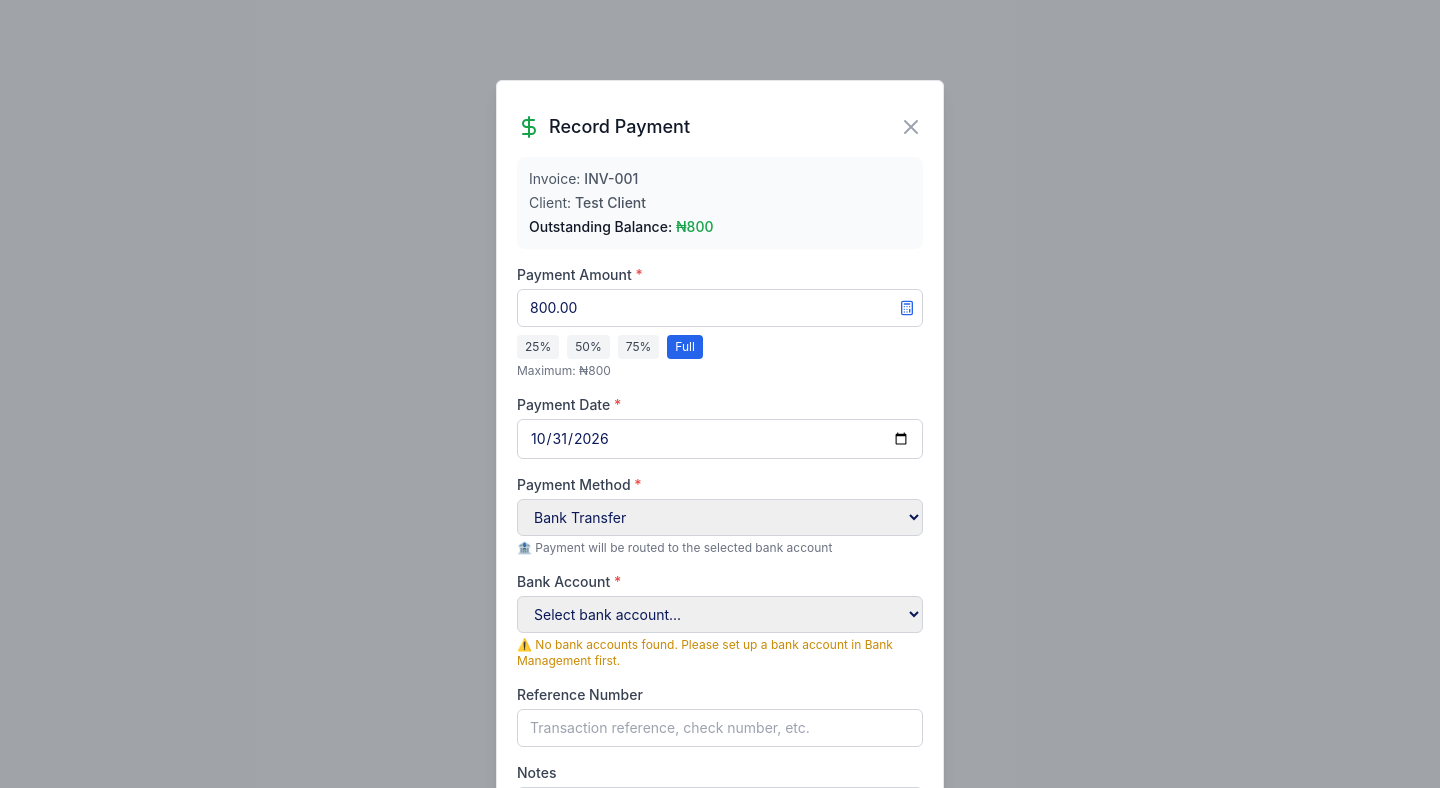
Test: PaymentRecordingModal › provides full balance button
# Clear amount first
Clear the field showing "800.00". click: (720, 308)
box: [517, 289, 923, 327]
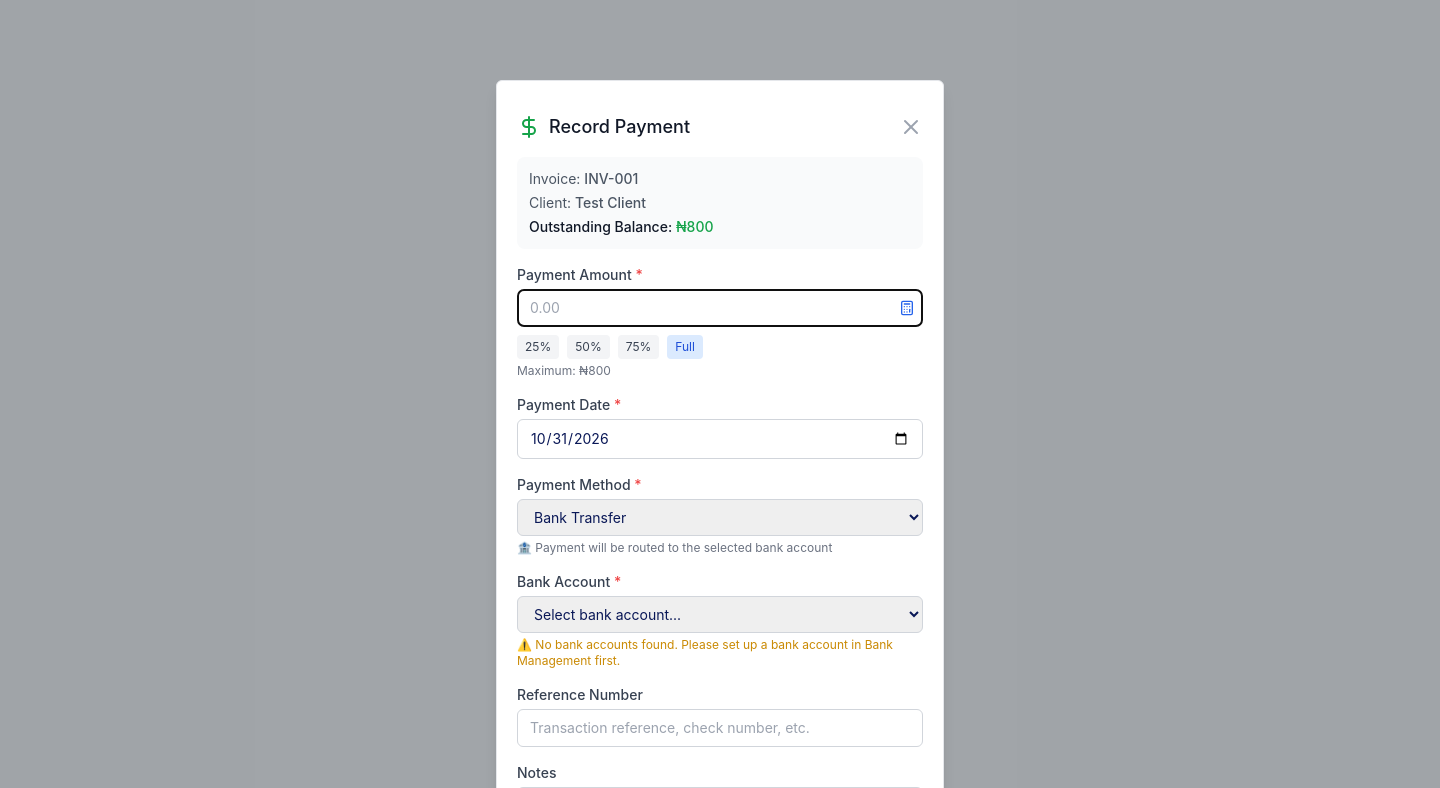
# Click Full button
Click the button "Full". click: (685, 347)
box: [667, 335, 703, 359]
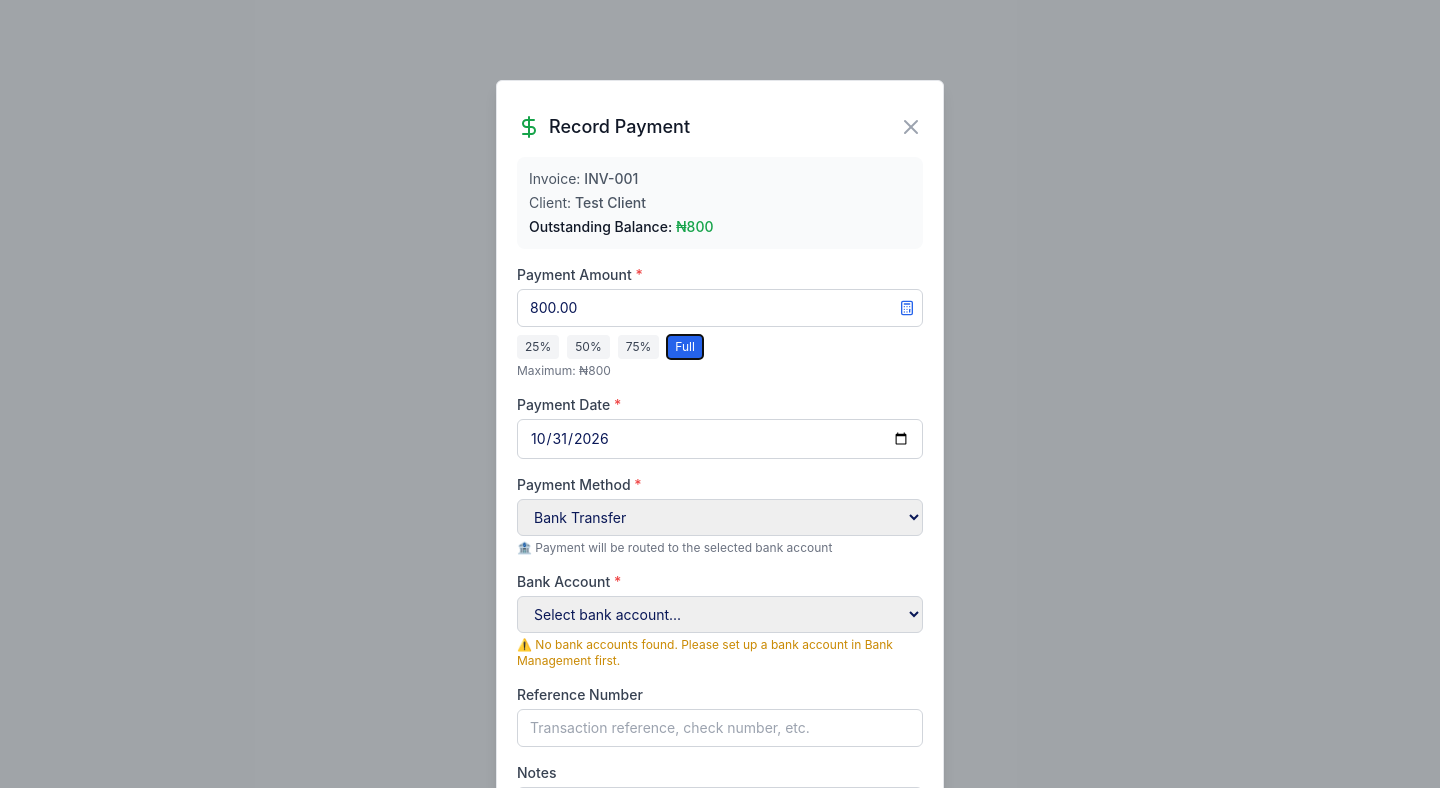
Now the field showing "800.00" is shown, box [517, 289, 923, 327]
